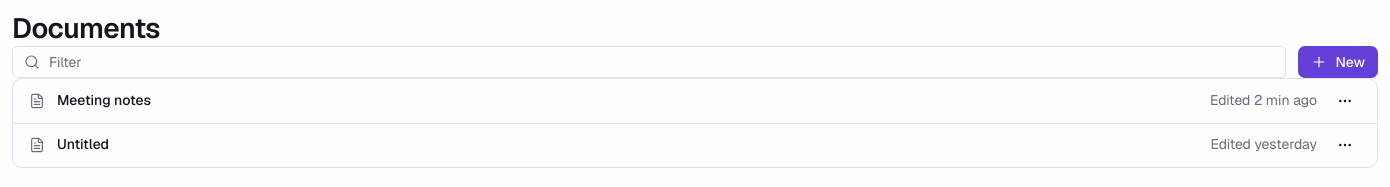
it: DocumentList › filters by title and says when nothing matches
Type "meet" into the search field named "Filter documents" at (649, 62), box top-left (12, 46), bottom-right (1286, 78)
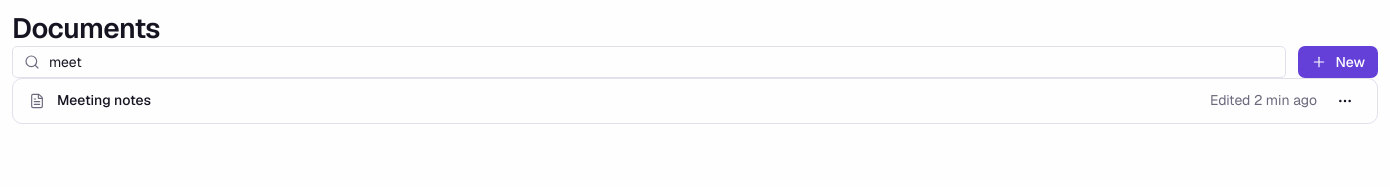
Result: the number of links is 1 at top-left (57, 91), bottom-right (1317, 109)
Replace the text in the search field named "Filter documents" with "zzz" at (649, 62), box top-left (12, 46), bottom-right (1286, 78)
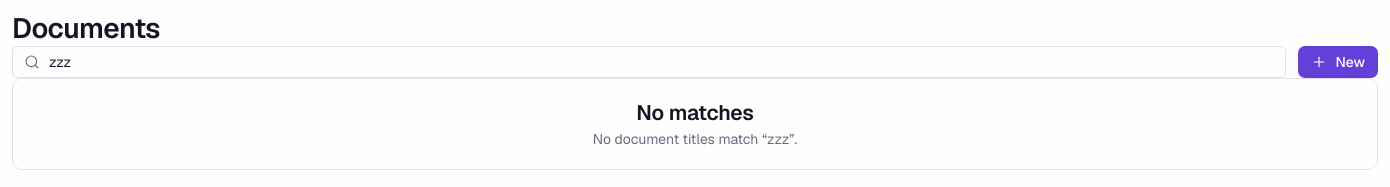
Result: the list is gone
Result: the text "No matches" is shown at top-left (636, 99), bottom-right (754, 126)
